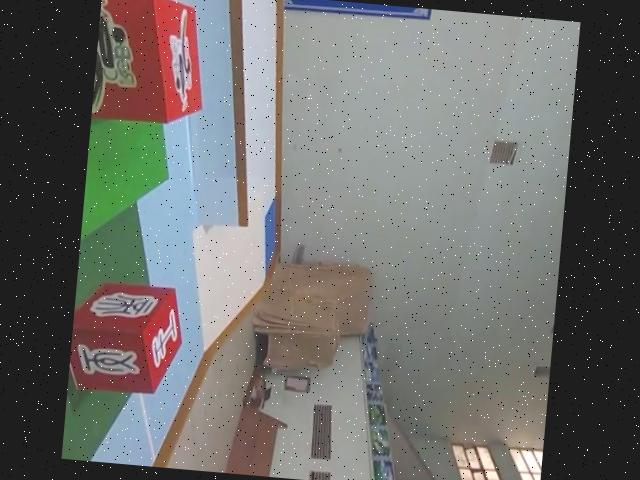R1: (89, 0, 212, 131)
R2 Fake: (66, 278, 189, 401)
